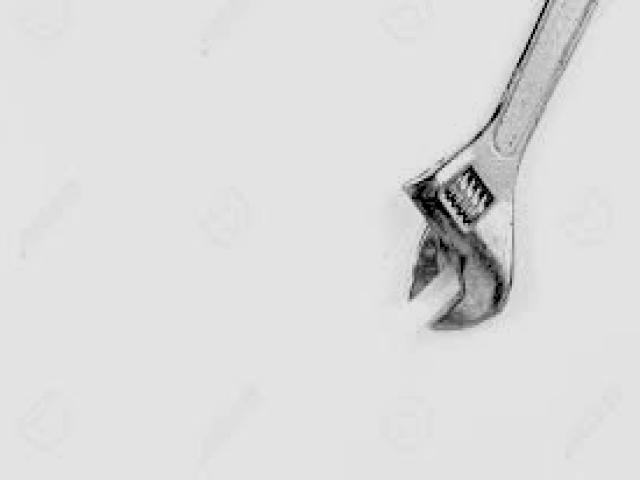Adjustable spanner: (403, 2, 596, 332)
